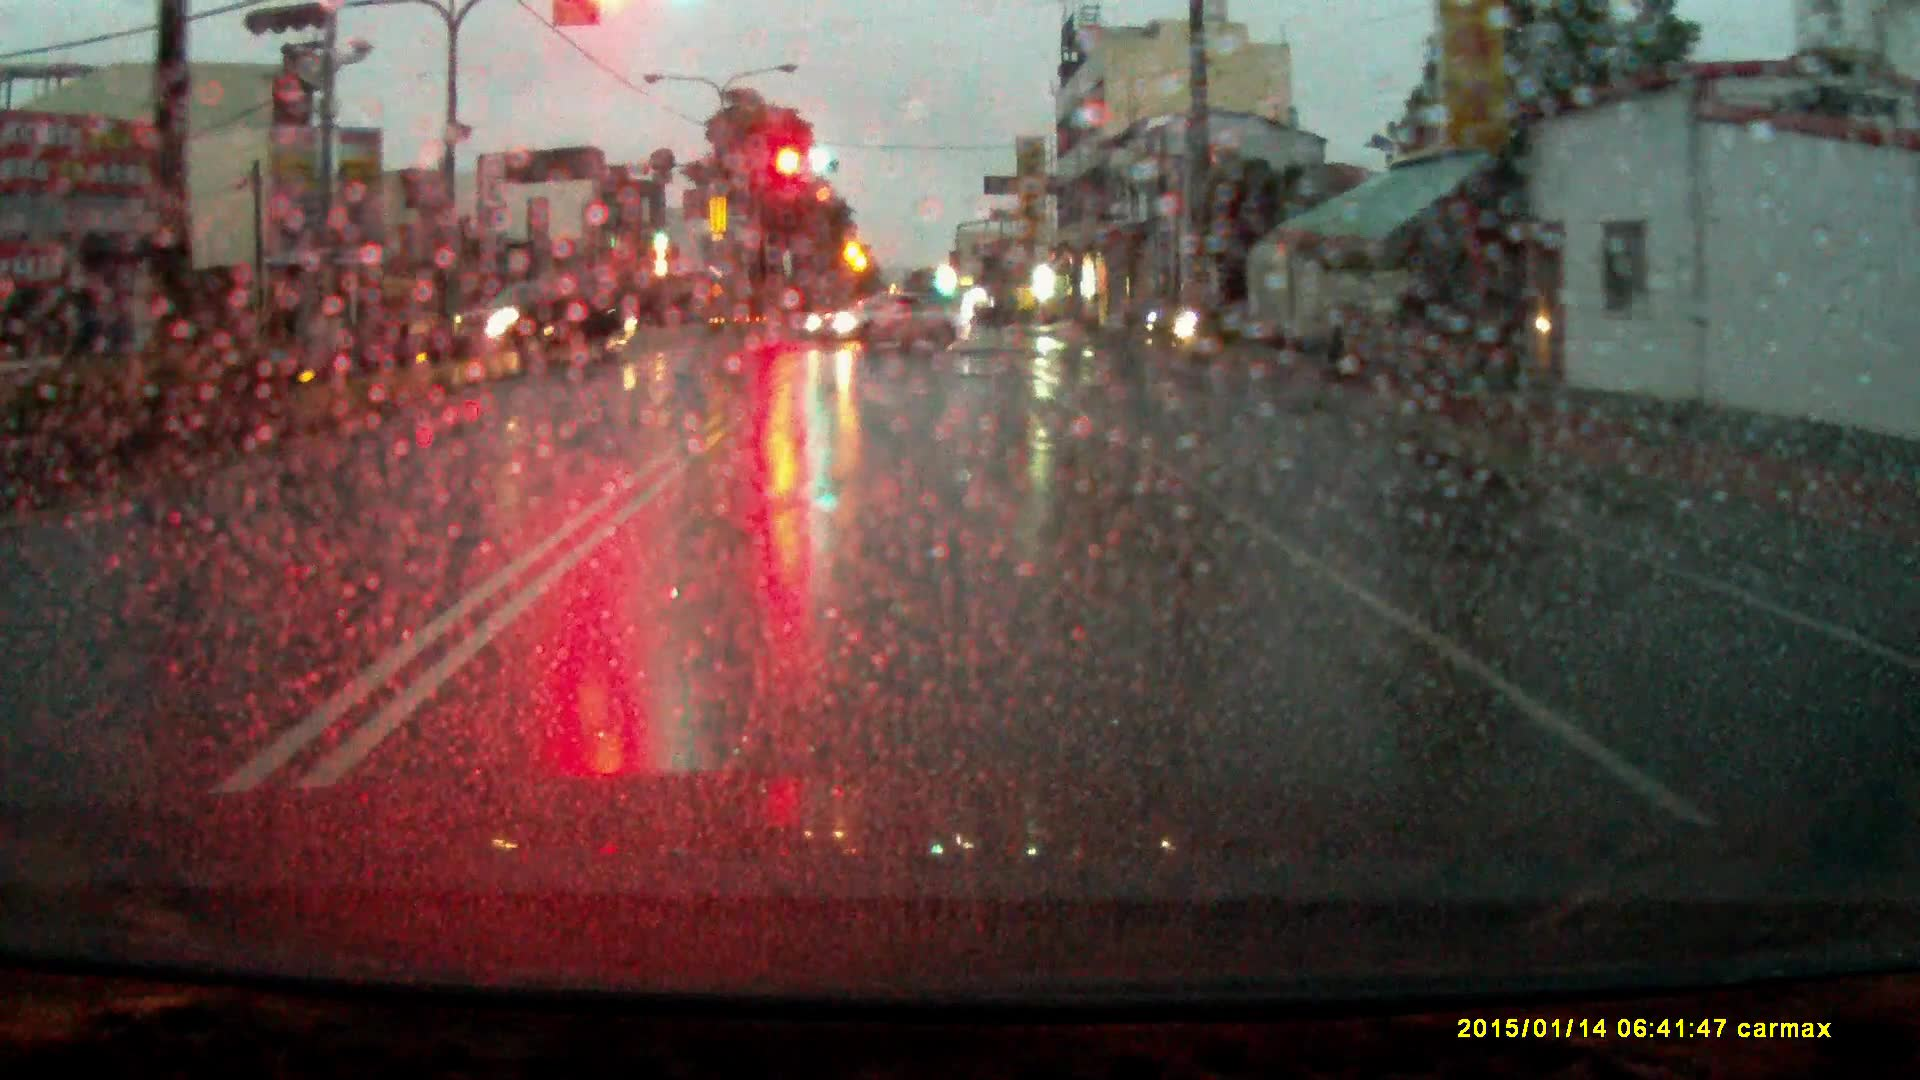vehicle: (436, 276, 640, 365), (804, 287, 969, 353)
